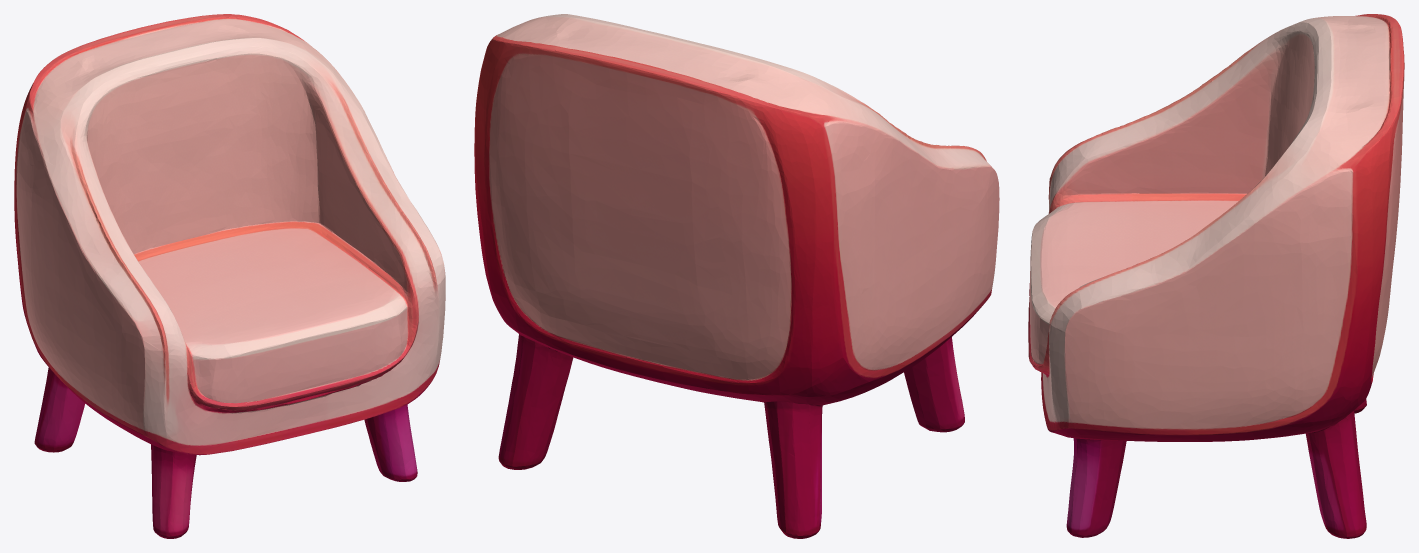
3 views of the same model, side by side, from view 1: azimuth 30°, elevation 25°; view 2: azimuth 150°, elevation 25°; view 3: azimuth 270°, elevation 25° (orthographic). The views are drawn at different scales.
Parts seen in each view (by area): view 1: world; view 2: world; view 3: world.
Boxes of the visible parts, x1=… form: world: x1=14, y1=14, x2=445, y2=538; world: x1=474, y1=14, x2=999, y2=538; world: x1=1028, y1=14, x2=1404, y2=538.
Bounding box in the file's own units: 89.26 × 99.98 × 83.06.
1 material, 1 textured.
